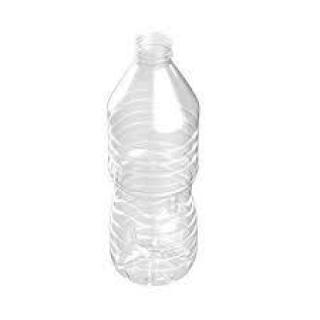Plastic-bottle: (103, 31, 210, 290)
